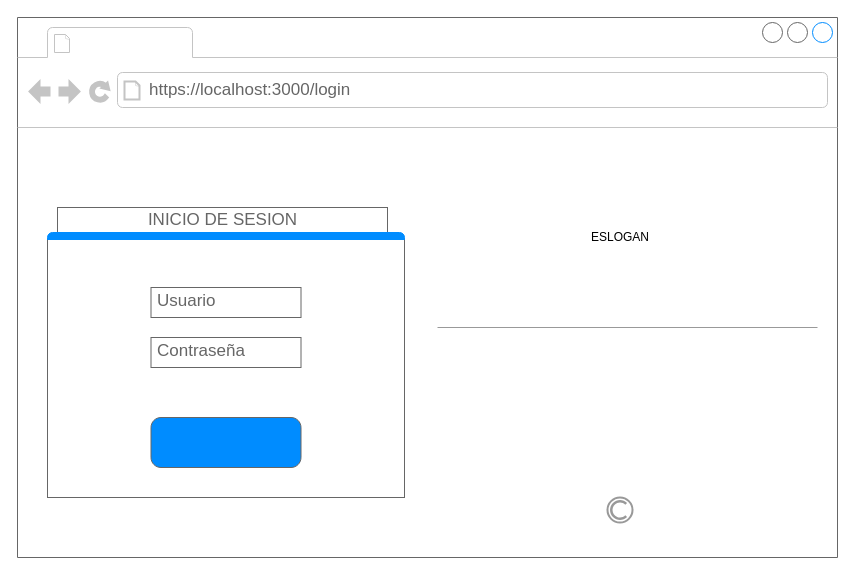
Image size: 855x575. Some labels were removed from this diagram. Here are the shapes that lost their labels. From the top down, the box of each, then its label:
(76, 28, 188, 56): DeGala
(150, 416, 301, 468): Iniciar Sesion
